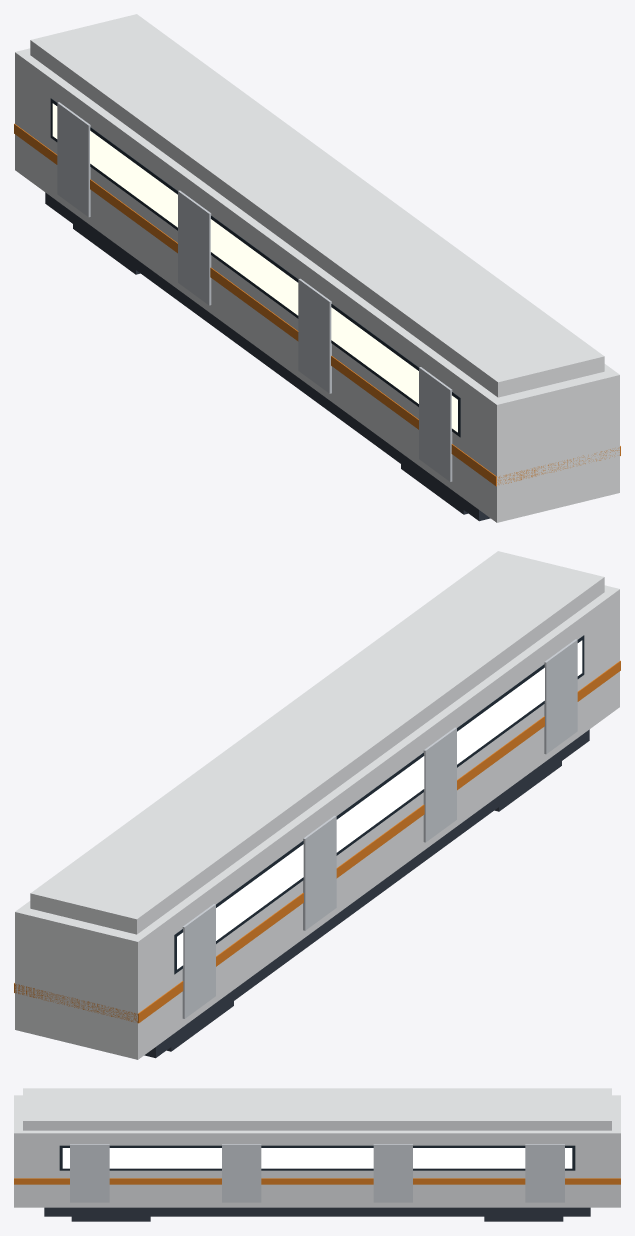
File: metro_car_mid.glb
3 views of the same model, one above another, from view 1: azimuth 30°, elevation 25°; view 2: azimuth 150°, elevation 25°; view 3: azimuth 270°, elevation 25° (orthographic). The views are drawn at different scales.
Parts seen in each view (by area): view 1: car; view 2: car; view 3: car.
Part boxes in pixels (x1,y1,x2,y2): car: (14,14,620,522); car: (14,551,620,1059); car: (14,1088,620,1221).
Bounding box in the file's own units: 3.05 × 3.7 × 20.
